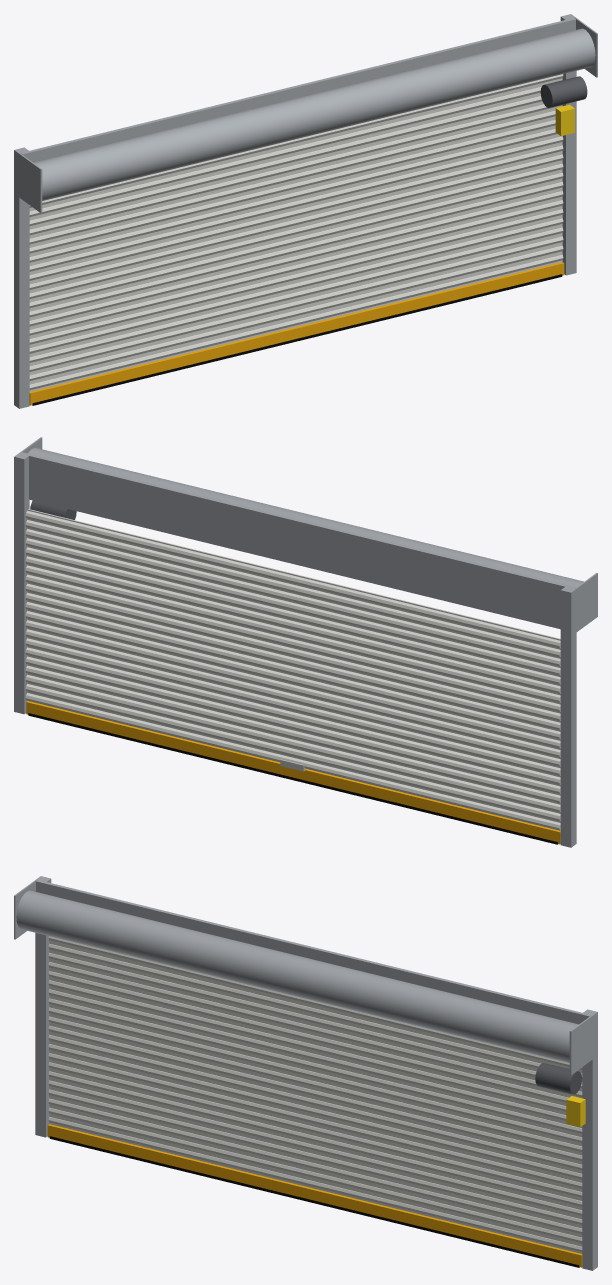
The model's file is opening.door.vehicle_roller_garage_double.glb.
3 views of the same model, one above another, from view 1: azimuth 30°, elevation 25°; view 2: azimuth 150°, elevation 25°; view 3: azimuth 330°, elevation 25° (orthographic).
Parts seen in each view (by area): view 1: leaf__paint_white, frame__steel_galvanised, leaf__plant_yellow, leaf__rubber, ironmongery__plastic_grey, ironmongery__plastic_yellow; view 2: leaf__paint_white, frame__steel_galvanised, leaf__plant_yellow, leaf__rubber; view 3: leaf__paint_white, frame__steel_galvanised, leaf__plant_yellow, leaf__rubber, ironmongery__plastic_grey, ironmongery__plastic_yellow.
Part boxes in pixels (x1,y1,x2,y2): leaf__paint_white: (29,74,563,391); frame__steel_galvanised: (14,14,597,408); leaf__plant_yellow: (29,262,564,405); leaf__rubber: (32,274,562,405); ironmongery__plastic_grey: (540,76,587,107); ironmongery__plastic_yellow: (555,104,574,136); leaf__paint_white: (25,509,560,830); frame__steel_galvanised: (14,437,597,847); leaf__plant_yellow: (26,701,560,844); leaf__rubber: (28,713,557,844); leaf__paint_white: (48,936,582,1253); frame__steel_galvanised: (14,876,597,1270); leaf__plant_yellow: (47,1124,582,1267); leaf__rubber: (49,1136,579,1267); ironmongery__plastic_grey: (535,1063,581,1094); ironmongery__plastic_yellow: (566,1096,585,1127).
Size of the model in its own units: 4.8 by 2.1 by 0.41.
